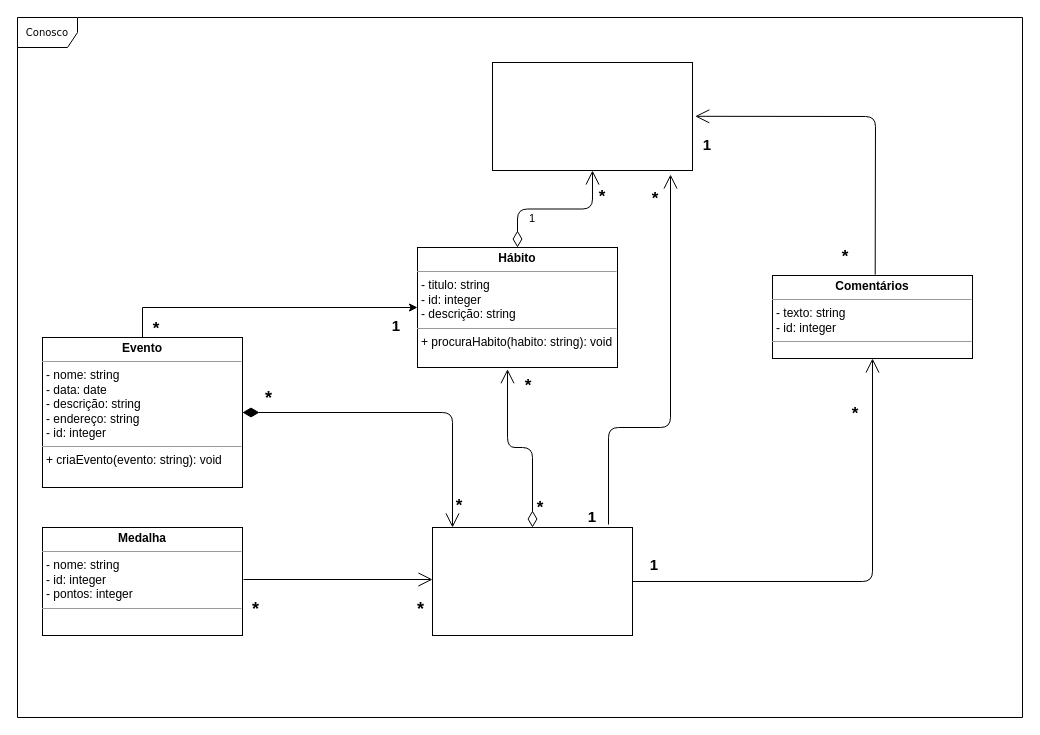
This 1040x735 diagram has some shape labels left out. The shapes that lost their labels are listed below. From the top down, each one's centre as x and y in pixels, then its label:
At point (592, 116): "Dica - texto: string - id: integer - pontuação: integer".
At point (532, 581): "Pessoa - nome: string - email: string - pontos: integer".
